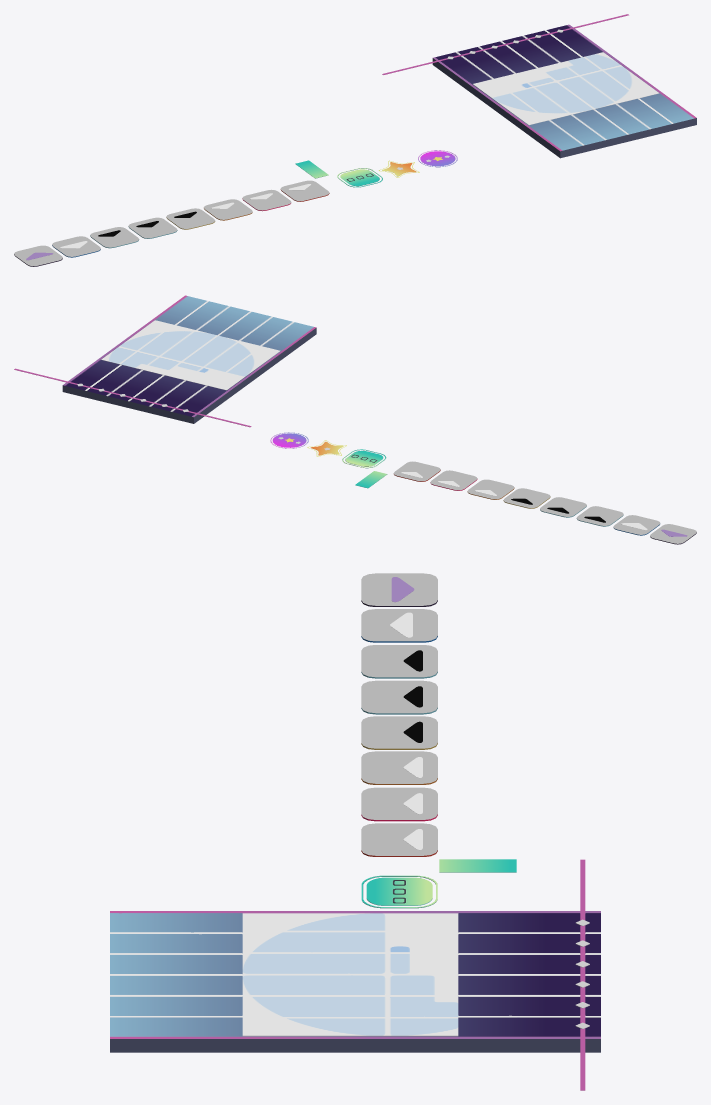
File: NoteAndTrack.fbx
3 renders of one model, top to bottom at view 1: azimuth 30°, elevation 25°; view 2: azimuth 150°, elevation 25°; view 3: azimuth 270°, elevation 25°, orthographic. The views are drawn at different scales.
Parts seen in each view (by area): view 1: track.001, ziwuicon.001, Msc.001, Csc.001, Ysc.007, Gsc.002, Rsc.005, Osc.003, Msc.007, Msc.010, Hold.001, Plane (+1 smaller); view 2: track.001, ziwuicon.001, Csc.001, Gsc.002, Ysc.007, Msc.001, Osc.003, Rsc.005, Msc.010, Msc.007, Hold.001, Plane; view 3: track.001, ziwuicon.001, Msc.001, Gsc.002, Ysc.007, Osc.003, Csc.001, Rsc.005, Msc.010, Msc.007, Hold.001, Plane (+1 smaller).
Part boxes in pixels (box(x1,y1,x2,y2)): track.001: box(432, 24, 696, 158); ziwuicon.001: box(473, 52, 659, 125); Msc.001: box(242, 189, 291, 211); Csc.001: box(90, 227, 139, 248); Ysc.007: box(166, 208, 215, 229); Gsc.002: box(128, 217, 177, 238); Rsc.005: box(280, 180, 329, 201); Osc.003: box(204, 199, 252, 220); Msc.007: box(52, 236, 100, 257); Msc.010: box(14, 245, 62, 266); Hold.001: box(340, 169, 379, 186); Plane: box(382, 14, 628, 74); track.001: box(62, 295, 316, 423); ziwuicon.001: box(101, 320, 280, 390); Csc.001: box(576, 506, 623, 526); Gsc.002: box(540, 497, 586, 517); Ysc.007: box(503, 488, 550, 508); Msc.001: box(430, 470, 477, 490); Osc.003: box(467, 479, 514, 499); Rsc.005: box(393, 461, 440, 481); Msc.010: box(650, 524, 696, 544); Msc.007: box(613, 515, 660, 535); Hold.001: box(345, 450, 383, 466); Plane: box(14, 368, 251, 427); track.001: box(110, 911, 600, 1052); ziwuicon.001: box(242, 913, 458, 1036); Msc.001: box(361, 787, 437, 821); Gsc.002: box(361, 680, 437, 714); Ysc.007: box(361, 716, 437, 749); Osc.003: box(361, 751, 437, 784); Csc.001: box(361, 645, 437, 678); Rsc.005: box(361, 823, 437, 856); Msc.010: box(361, 573, 437, 606); Msc.007: box(361, 609, 437, 642); Hold.001: box(366, 877, 432, 905); Plane: box(580, 859, 585, 1090).
Bounding box in the file's own units: 28.99 × 2.19 × 9.79.
